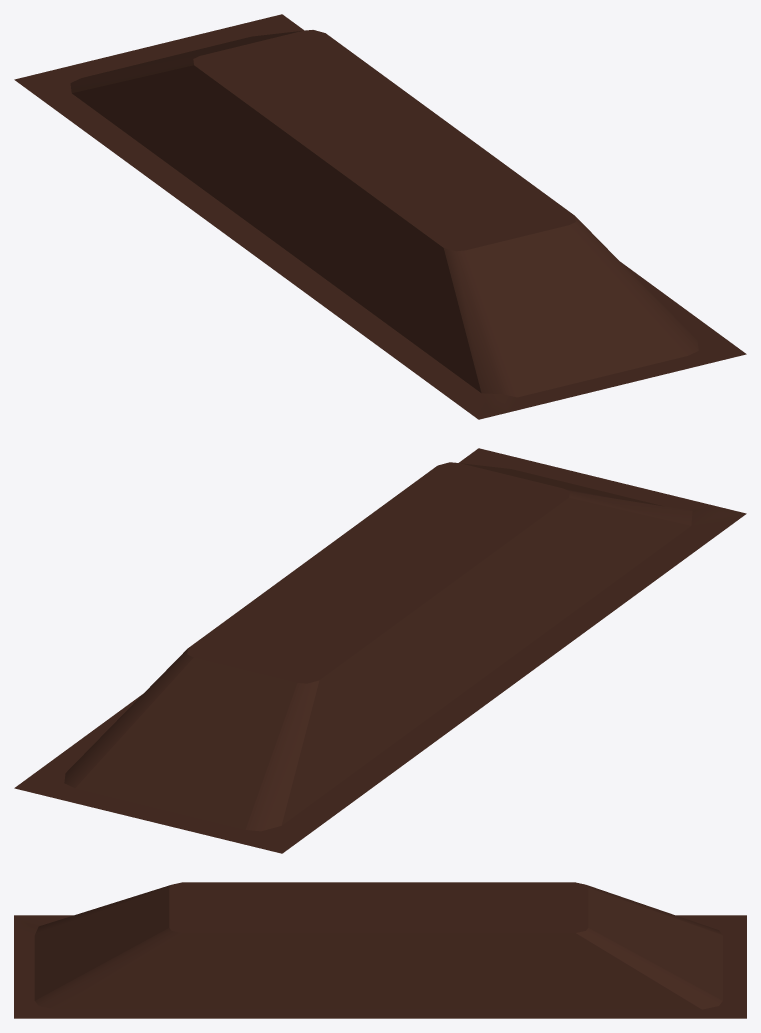
The model's file is Fresh FULL 3x1.fbx.
3 renders of one model, top to bottom at view 1: azimuth 30°, elevation 25°; view 2: azimuth 150°, elevation 25°; view 3: azimuth 270°, elevation 25°, orthographic. The views are drawn at different scales.
Parts seen in each view (by area): view 1: pCube1; view 2: pCube1; view 3: pCube1.
Boxes of the visible parts, x1,y1,x2,y2 form: pCube1: (14,14,746,419); pCube1: (14,448,746,853); pCube1: (14,882,746,1018).
Bounding box in the file's own units: 100 × 27.24 × 300.
